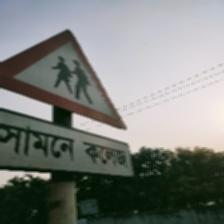College-in-front: (0, 41, 164, 204)
